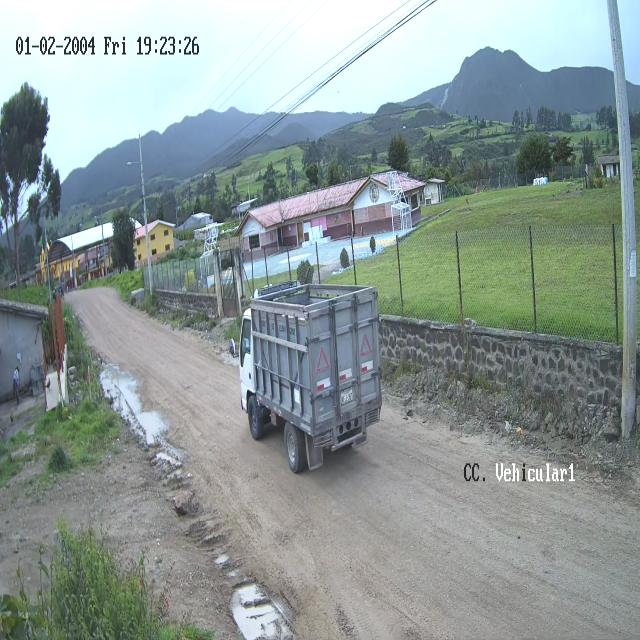TRUCK: (239, 280, 382, 475)
